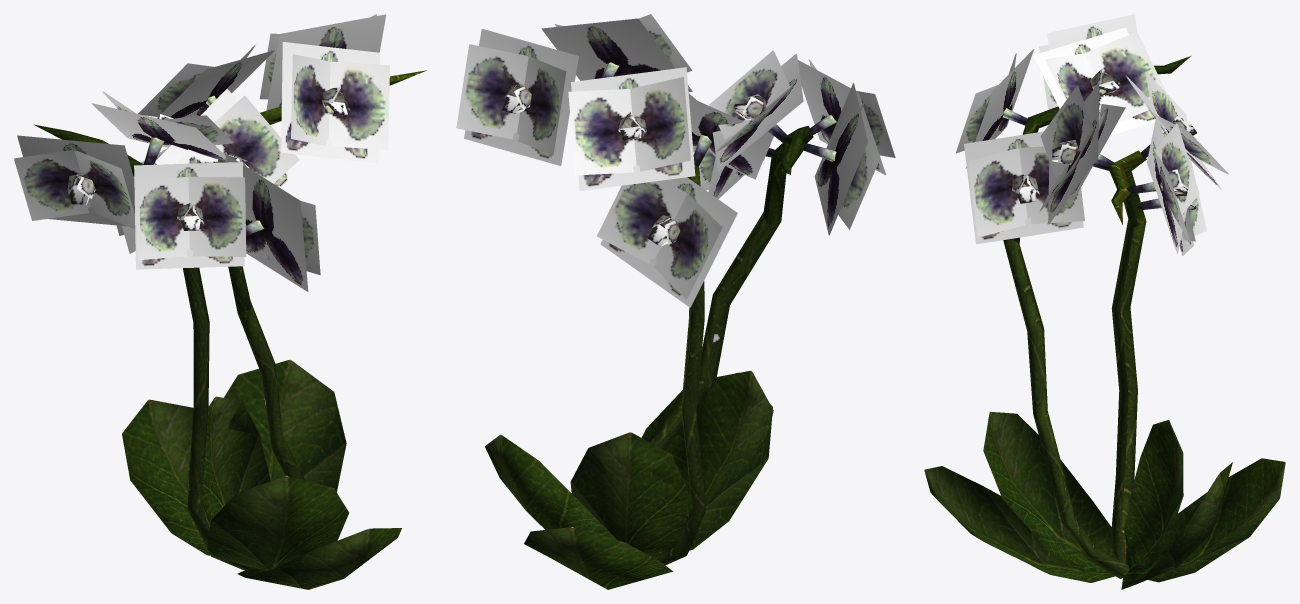
File: purple_orchid.dae
The picture shows the model from 3 angles, left to right: view 1: azimuth 30°, elevation 25°; view 2: azimuth 150°, elevation 25°; view 3: azimuth 270°, elevation 25°; orthographic projection. The views are drawn at different scales.
Visible parts, largest first — view 1: orchid_mesh; view 2: orchid_mesh; view 3: orchid_mesh.
Part boxes in pixels (x1,y1,x2,y2): orchid_mesh: (14,14,426,589); orchid_mesh: (456,14,895,589); orchid_mesh: (924,14,1285,589).
Bounding box in the file's own units: 0.8233 × 1.02 × 0.6671.
1 material, 1 textured.
